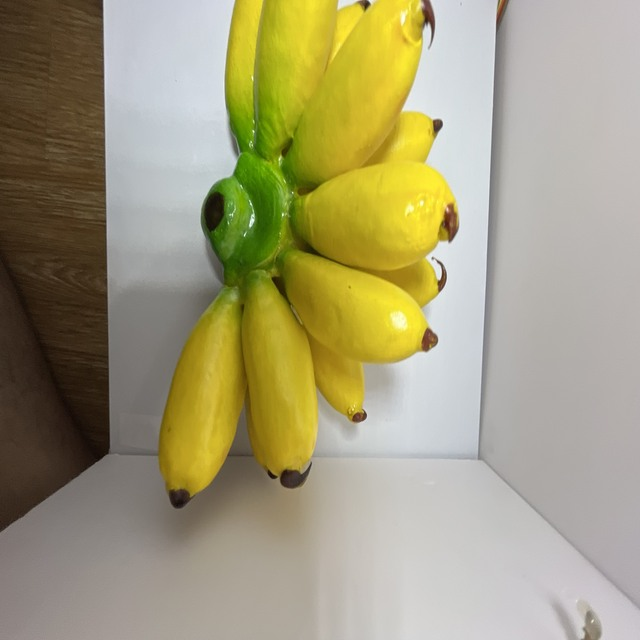Chuoi: (153, 0, 466, 507)
